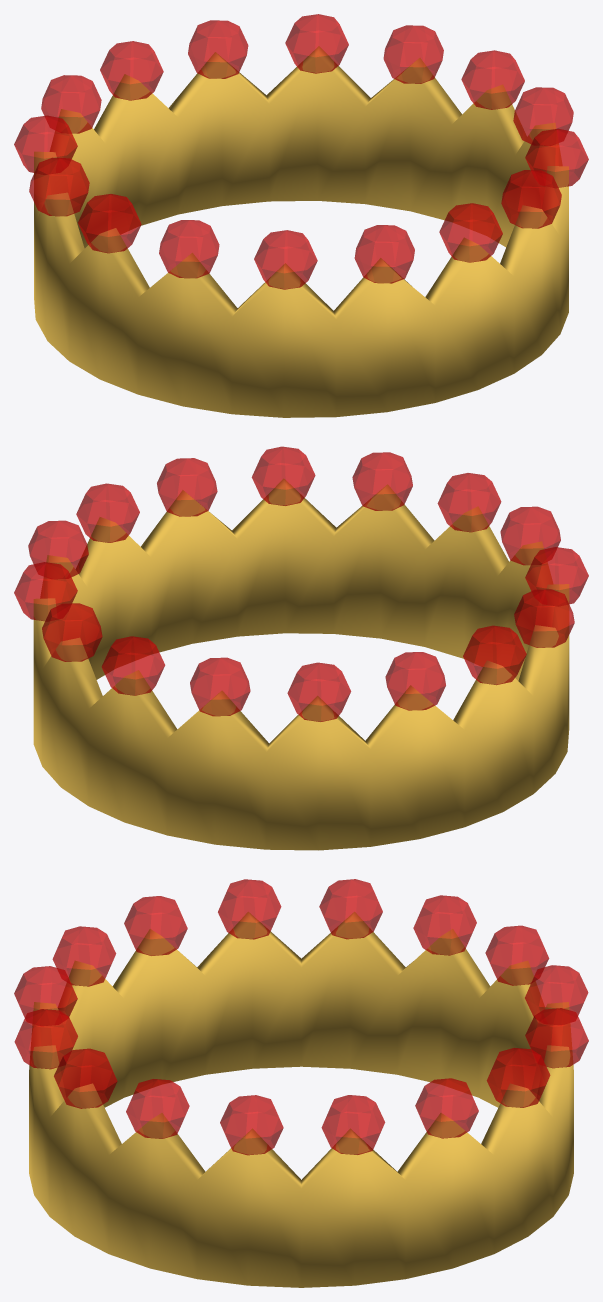
The model's file is Empire_Crown.glb.
The picture shows the model from 3 angles, top to bottom: view 1: azimuth 30°, elevation 25°; view 2: azimuth 150°, elevation 25°; view 3: azimuth 270°, elevation 25°; orthographic projection.
Parts seen in each view (by area): view 1: Crown, Crystals; view 2: Crown, Crystals; view 3: Crown, Crystals.
Part boxes in pixels (x1,y1,x2,y2): Crown: (34, 46, 568, 417); Crystals: (14, 14, 588, 289); Crown: (33, 478, 569, 850); Crystals: (14, 446, 588, 721); Crown: (29, 912, 573, 1287); Crystals: (14, 879, 588, 1155).
Size of the model in its own units: 2.11 by 0.7474 by 2.11.
